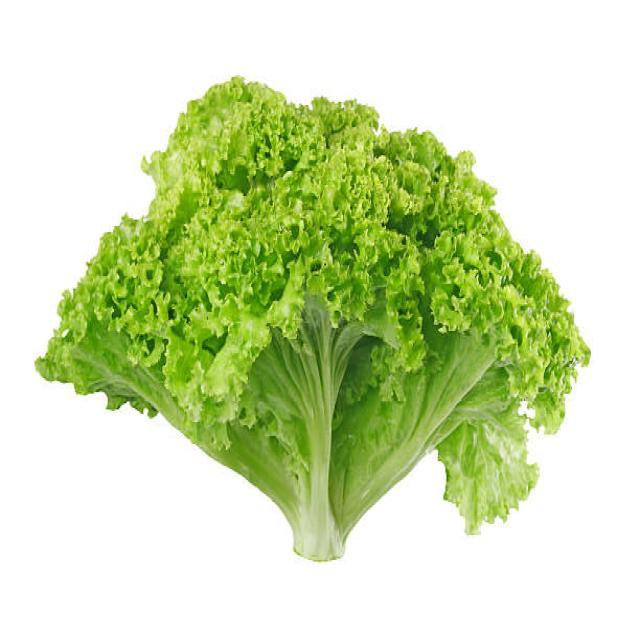Lettuce-Ready-to-Harvest: (32, 77, 592, 567)
